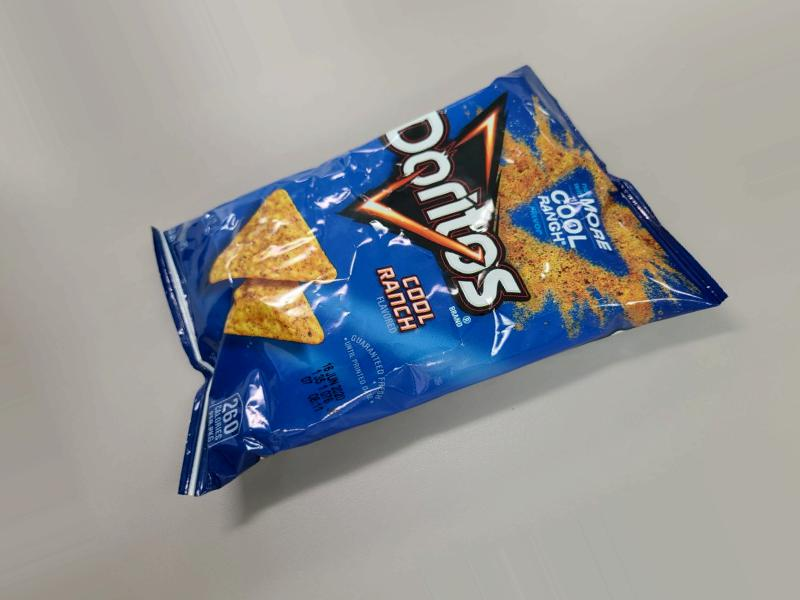doritos: (216, 52, 744, 471)
